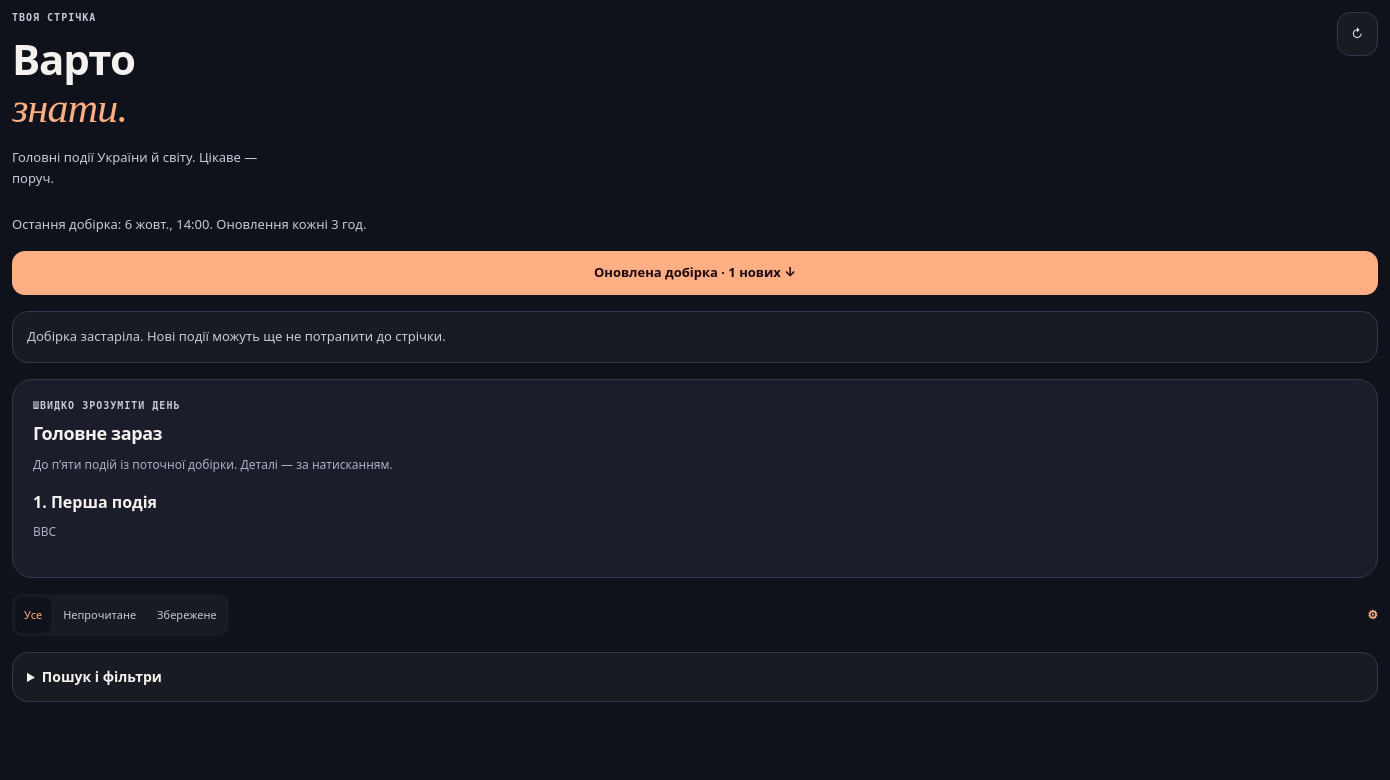
Test: announces a new snapshot without moving existing articles until the reader applies it
Expected: the button with aria-label "Коротко: Перша подія" is shown, [33,490,1357,557]
Click the button "Оновлена добірка · 1 нових ↓" at [695, 273], box [12,251,1378,295]
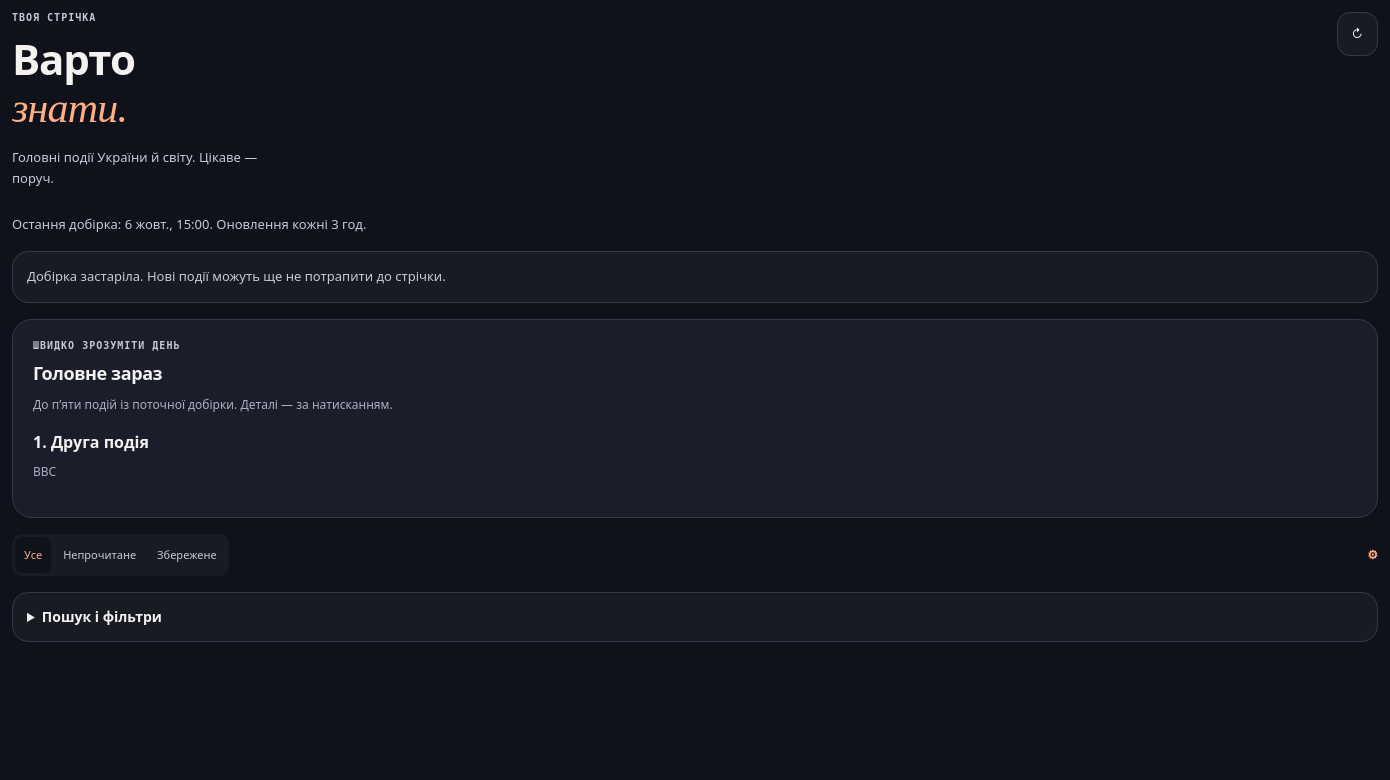
Expected: the button with aria-label "Коротко: Друга подія" is shown, [33,430,1357,497]
